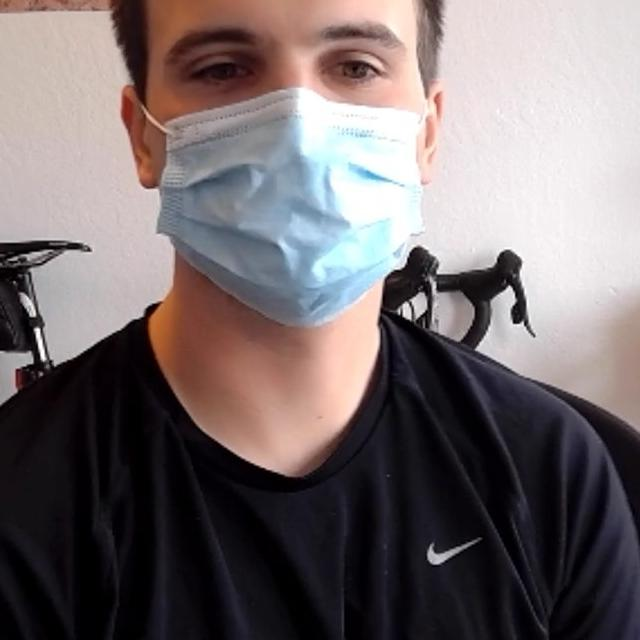Mask: (143, 95, 431, 334)
NO-Safety Vest: (0, 328, 528, 640)
Person: (0, 0, 640, 640)
